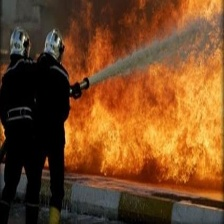fire: (62, 6, 224, 181)
